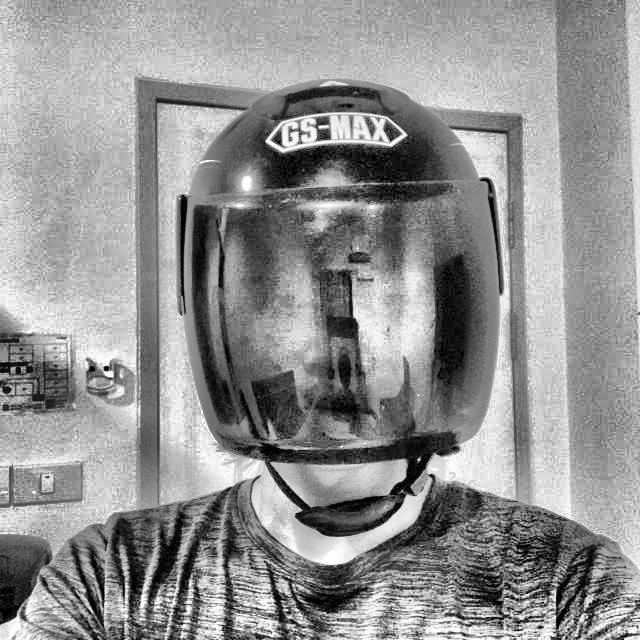Helmet: (166, 65, 516, 546)
